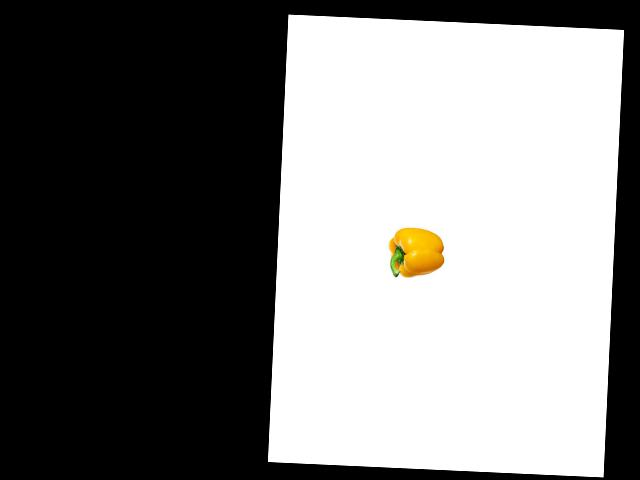bell_pepper: (382, 222, 448, 284)
